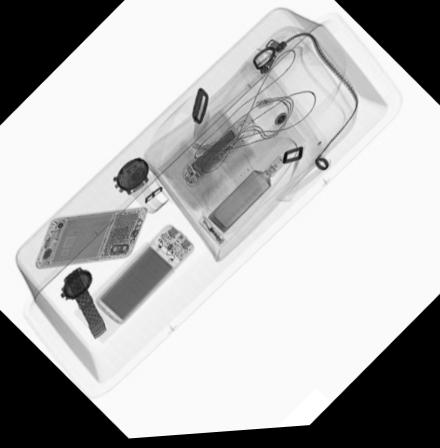Lighter: (196, 216, 227, 253)
